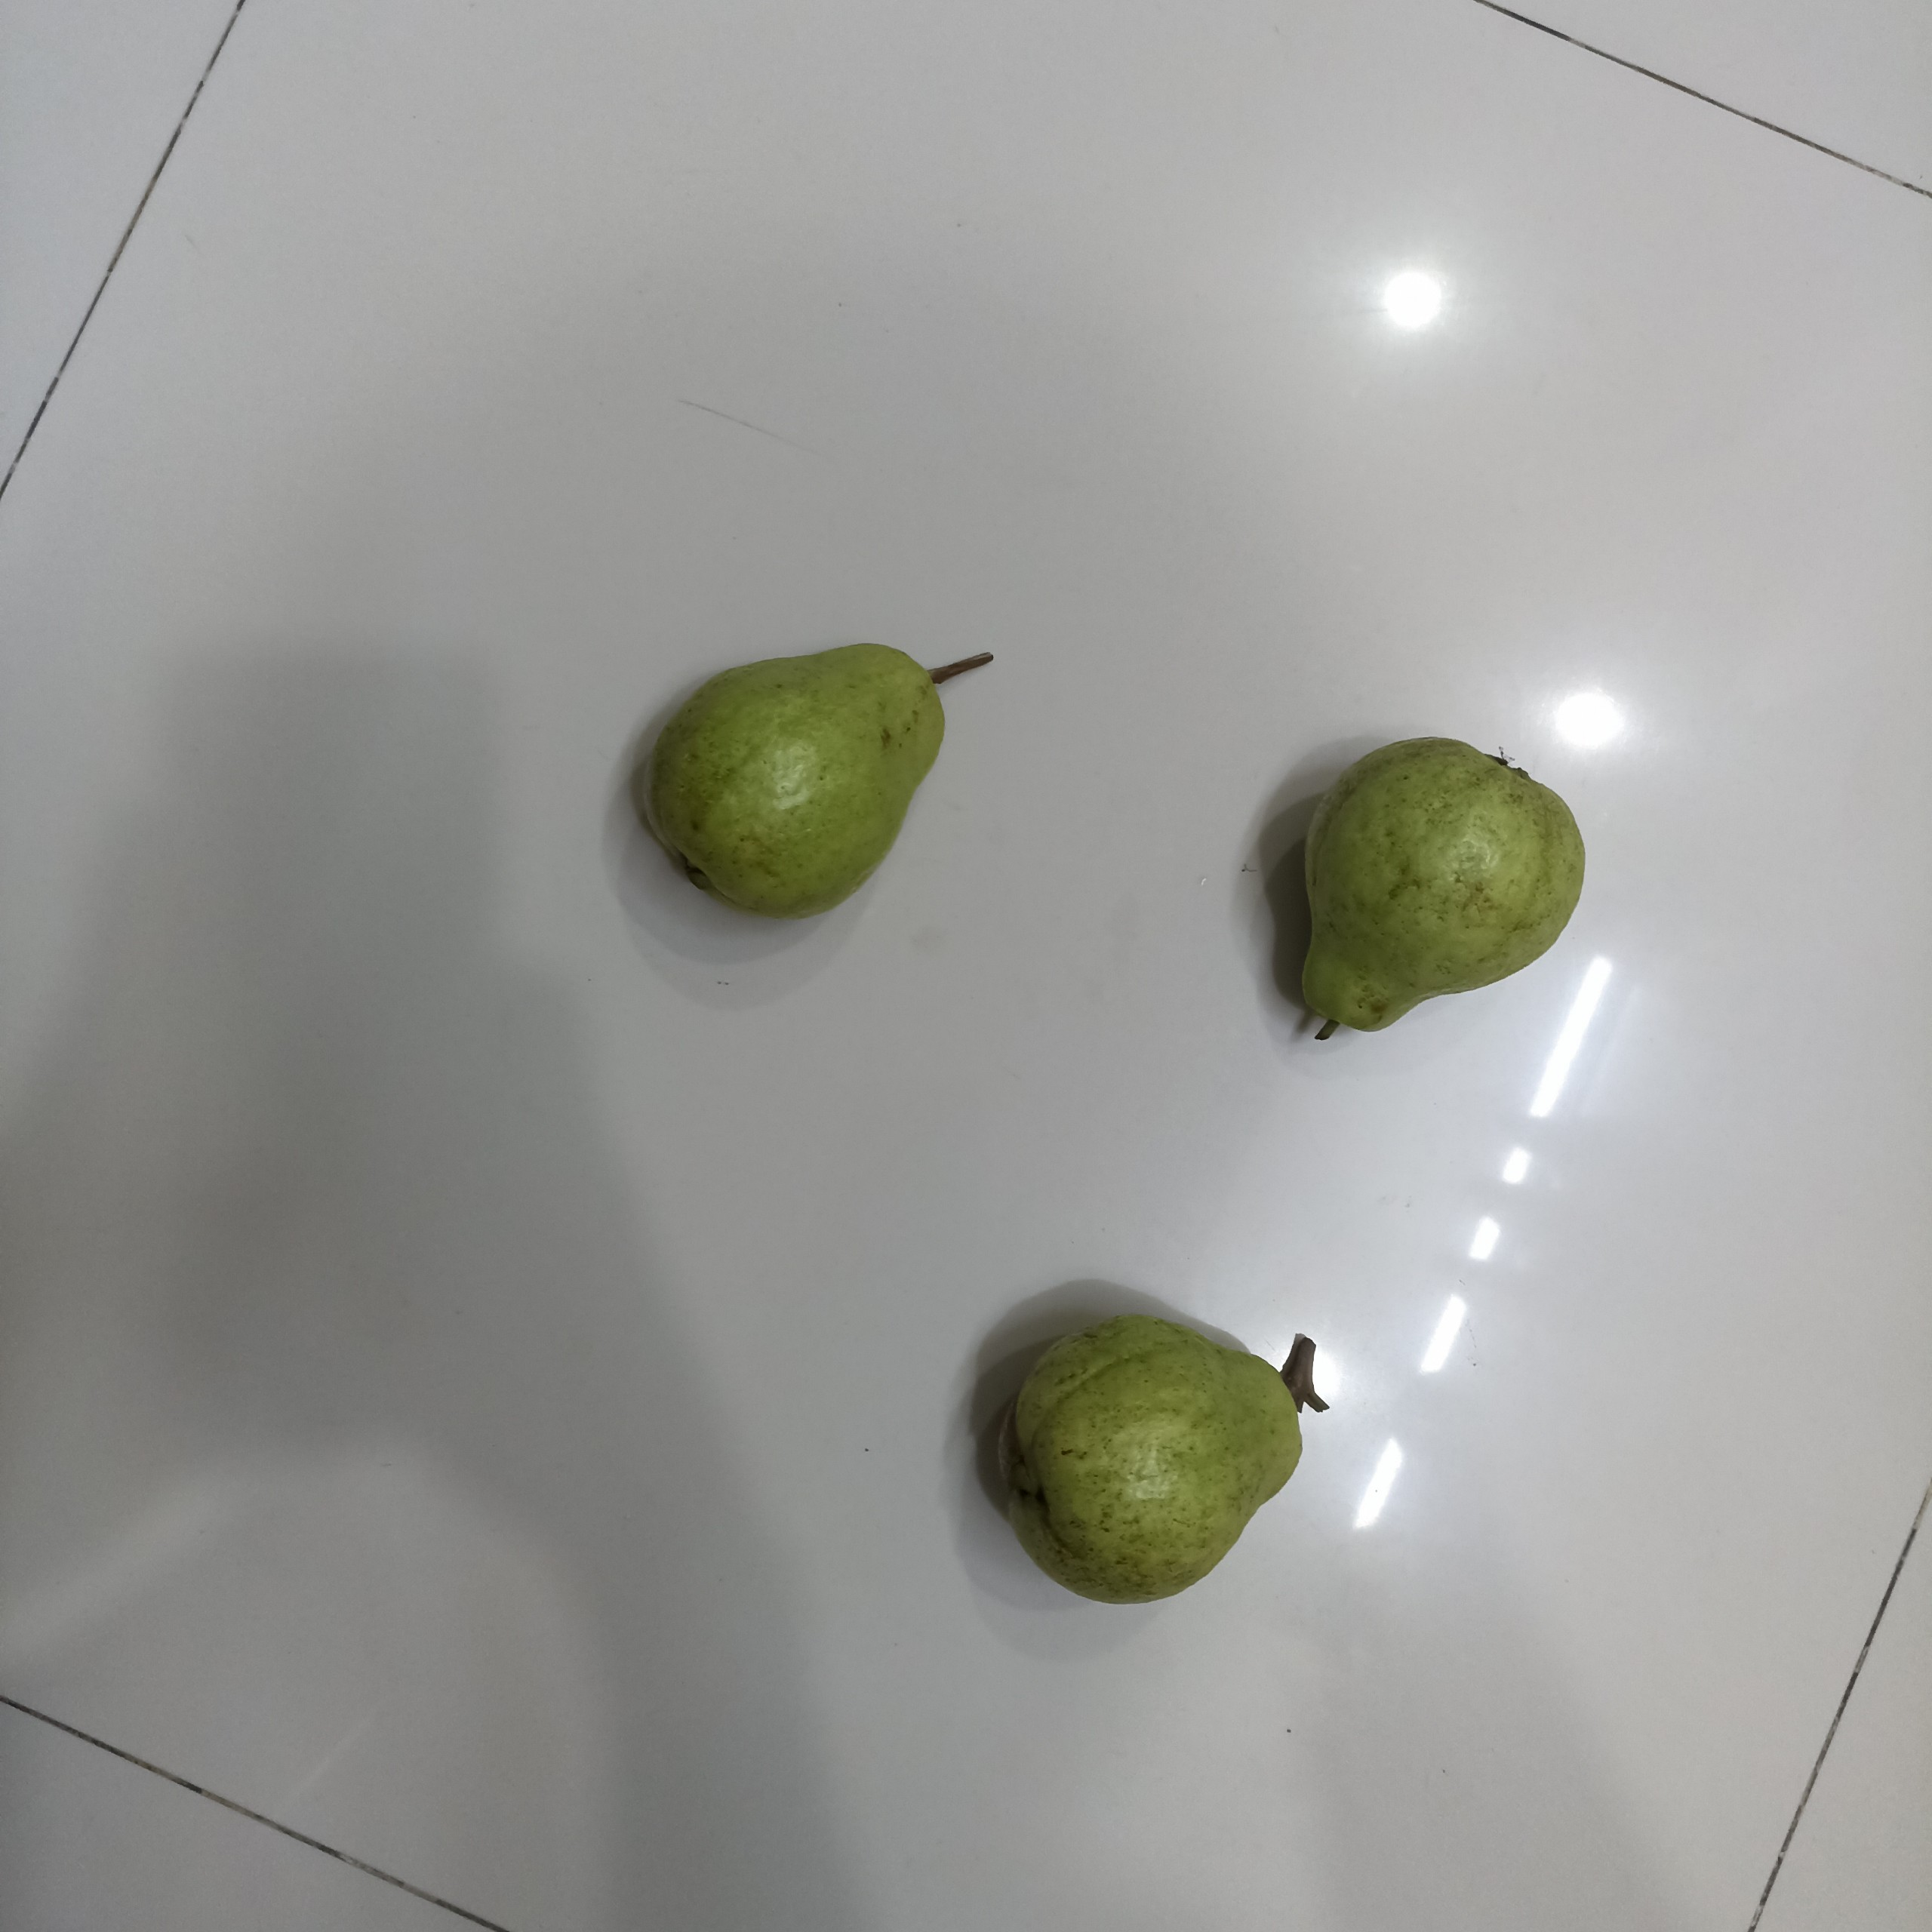Oi: (987, 1309, 1313, 1605), (626, 635, 950, 915), (1297, 738, 1585, 1042)
